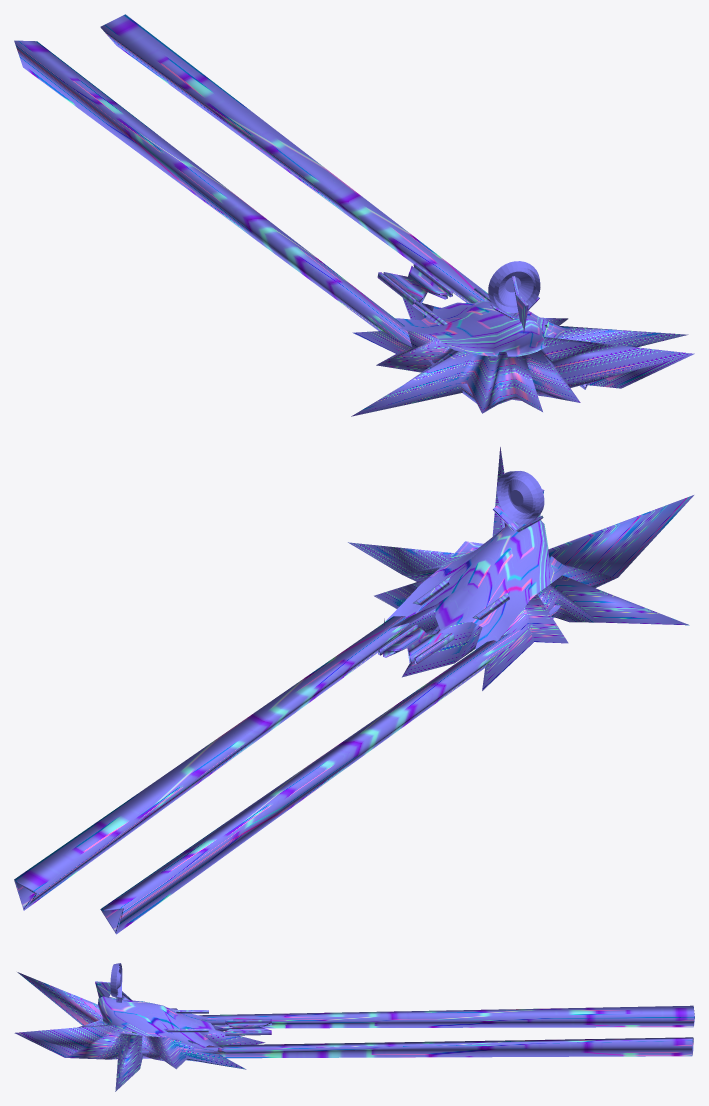
File: gunship11.obj
The picture shows the model from 3 angles, top to bottom: view 1: azimuth 30°, elevation 25°; view 2: azimuth 150°, elevation 25°; view 3: azimuth 270°, elevation 25°; orthographic projection. The views are drawn at different scales.
Visible parts, largest first — view 1: Ship_Body, Gun_2, Gun_1, Driving_Seat, radar; view 2: Ship_Body, Gun_2, Gun_1, Driving_Seat, radar; view 3: Gun_2, Gun_1, Ship_Body, Driving_Seat, radar, Gun_Stripes_2, Gun_Stripe_4.
Boxes of the visible parts, x1,y1,x2,y2 form: Ship_Body: (351,298,694,416); Gun_2: (14,40,476,403); Gun_1: (100,14,588,389); Driving_Seat: (395,293,565,356); radar: (488,261,540,333); Ship_Body: (348,447,693,690); Gun_2: (100,605,560,934); Gun_1: (14,616,409,910); Driving_Seat: (383,518,569,649); radar: (497,471,544,524); Gun_2: (199,1005,694,1028); Gun_1: (141,1037,693,1058); Ship_Body: (14,972,265,1091); Driving_Seat: (98,996,228,1053); radar: (95,963,122,997); Gun_Stripes_2: (225,1021,271,1027); Gun_Stripe_4: (225,1030,271,1035).
Size of the model in its own units: 6.99 by 2.57 by 18.85.
